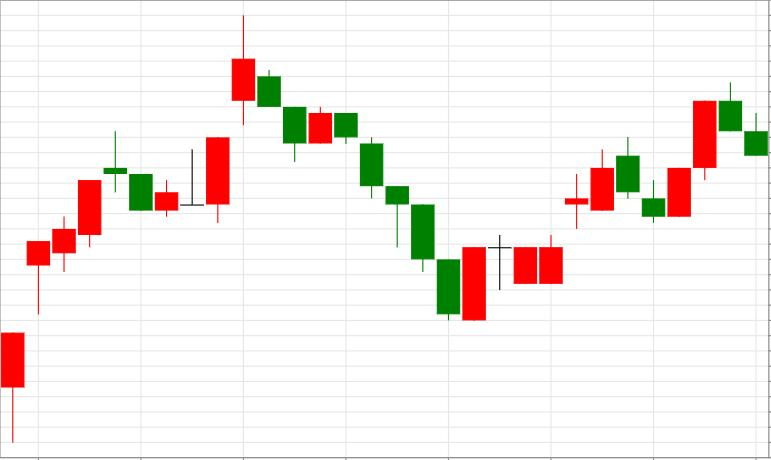bullish_engulfing_rise: (258, 71, 485, 320)
